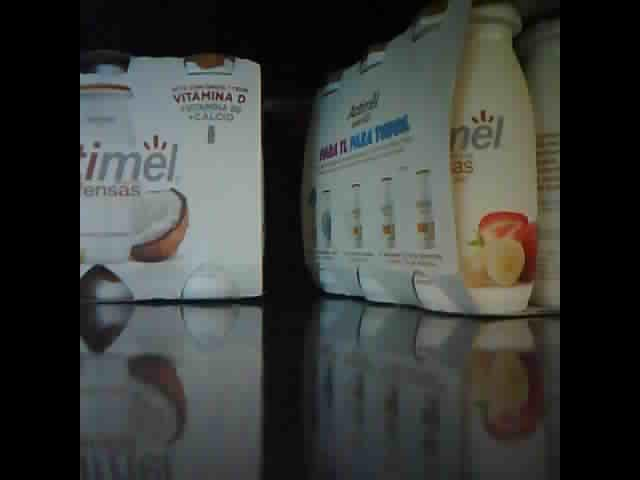actimel: (304, 5, 559, 315), (79, 44, 264, 304)
